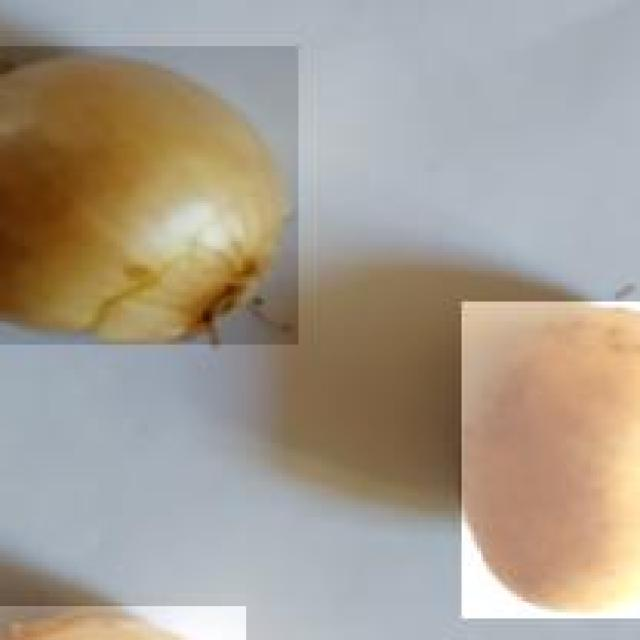onion: (0, 43, 298, 344)
potato: (458, 302, 640, 622)
